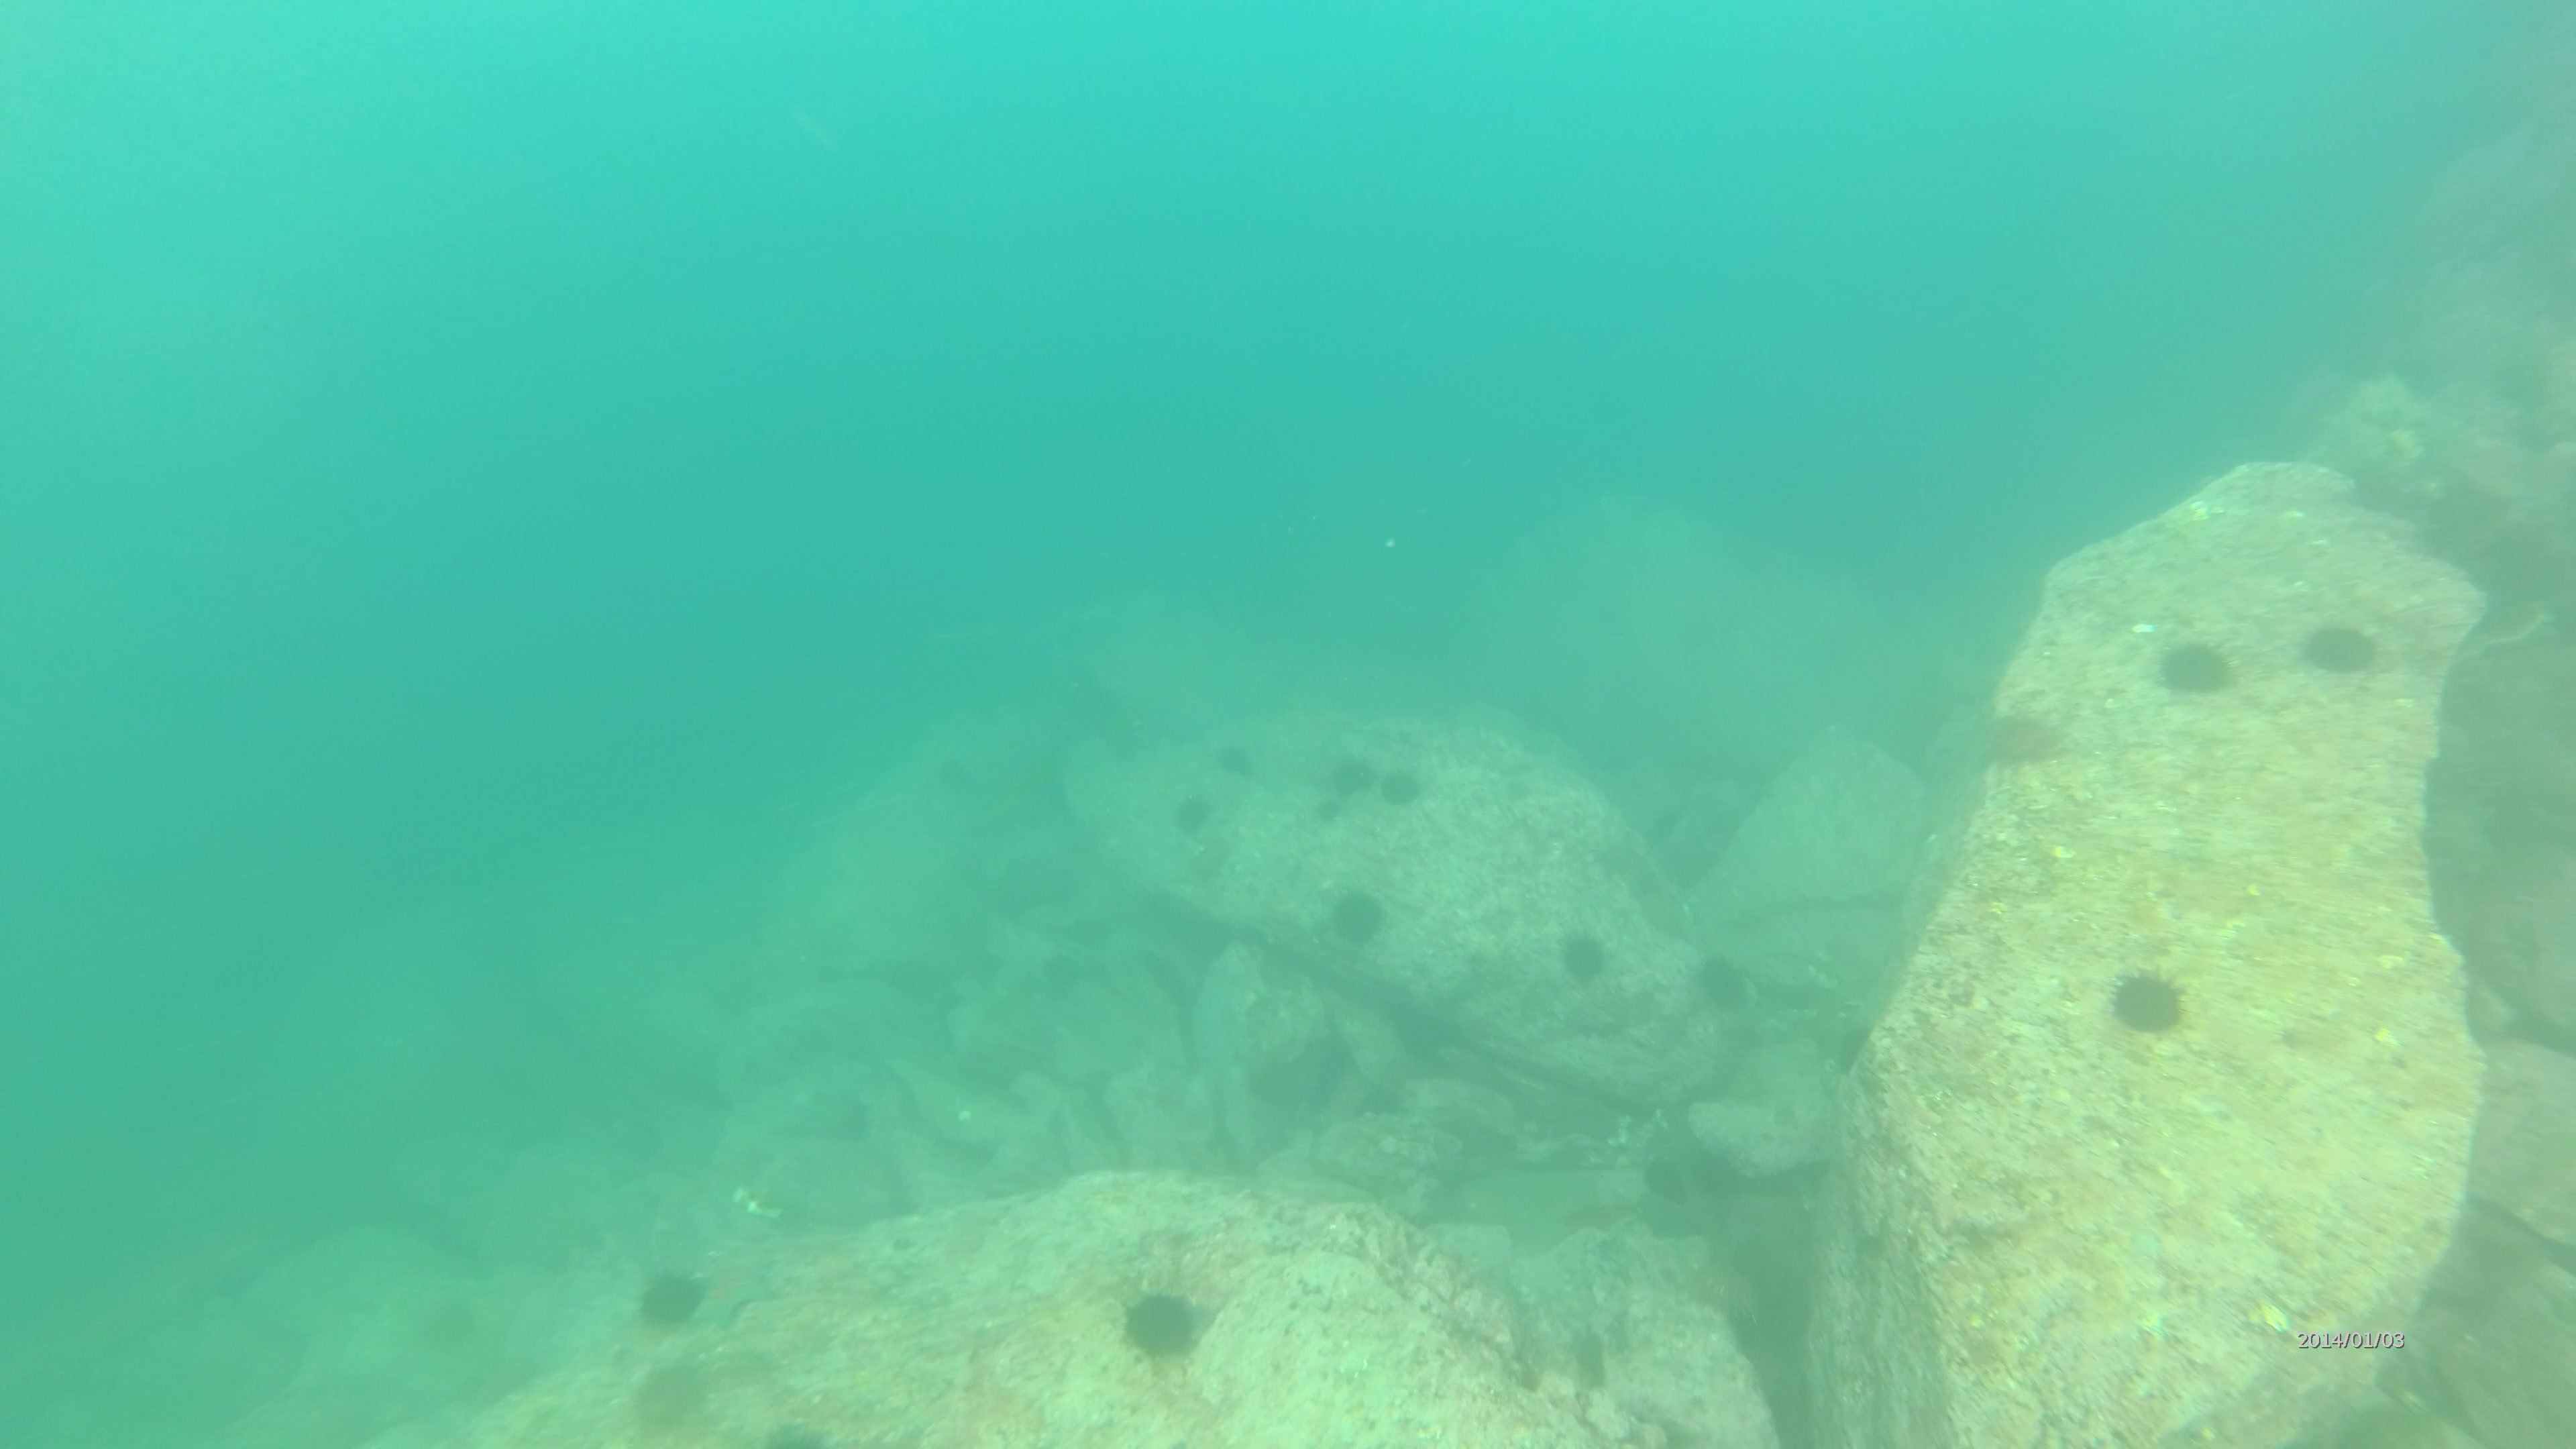echinus: (1120, 1277, 1210, 1369), (2102, 962, 2201, 1035), (1982, 706, 2072, 771), (1545, 911, 1619, 987), (1690, 939, 1767, 1012), (630, 1265, 713, 1330), (628, 1362, 713, 1426), (1320, 874, 1394, 947), (2305, 616, 2381, 685), (421, 1288, 487, 1353), (2162, 642, 2229, 697), (1168, 780, 1219, 844), (1366, 766, 1426, 810), (1325, 750, 1376, 793)
